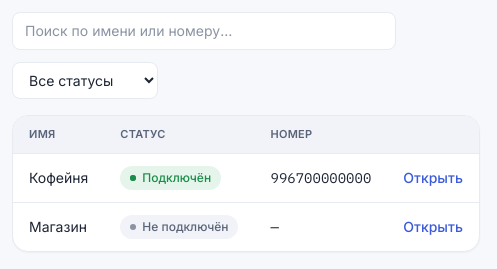
Test: filters by connection status
Select "Подключён" in the dropdown named "Фильтр по статусу подключения" at (85, 80), box [12,62,158,99]
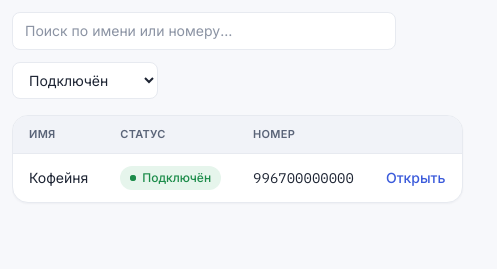
Check: the text "Кофейня" is shown, box [13,153,104,202]
Check: the text "Магазин" is gone
